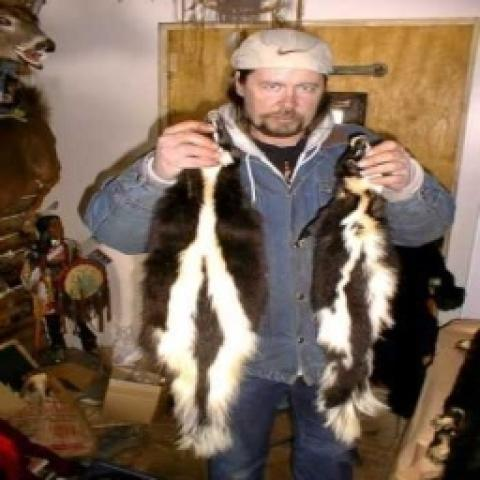small_animal: (146, 112, 260, 458), (306, 133, 402, 431)
